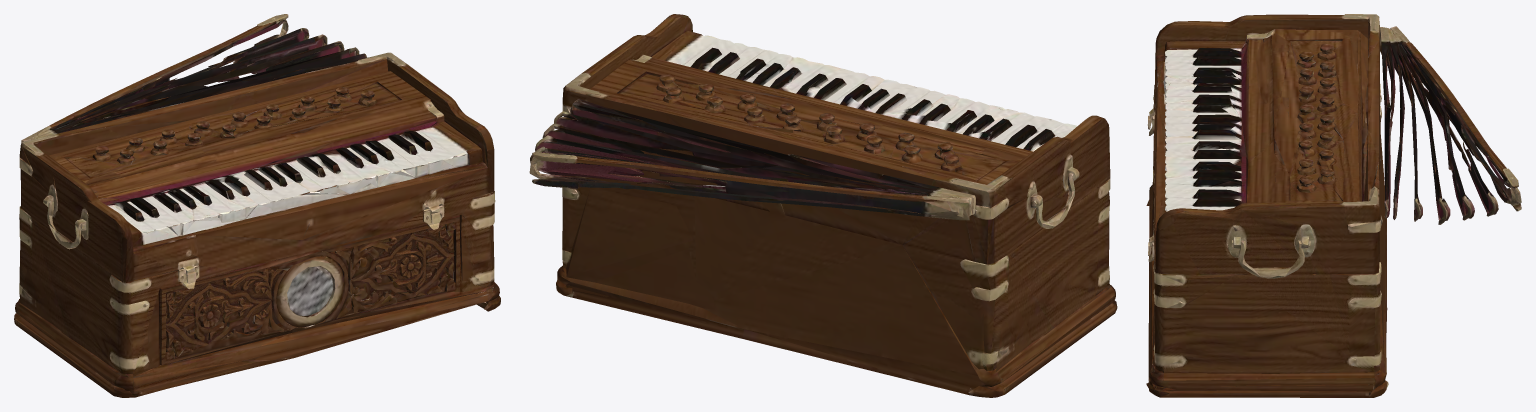
The model's file is harmonium.glb.
3 views of the same model, side by side, from view 1: azimuth 30°, elevation 25°; view 2: azimuth 150°, elevation 25°; view 3: azimuth 270°, elevation 25° (orthographic). The views are drawn at different scales.
Visible parts, largest first — view 1: placed; view 2: placed; view 3: placed.
Part boxes in pixels (x1,y1,x2,y2): placed: [14, 14, 500, 397]; placed: [529, 14, 1117, 397]; placed: [1146, 14, 1521, 397].
Bounding box in the file's own units: 0.62 × 0.2747 × 0.4865.
1 material, 1 textured.
